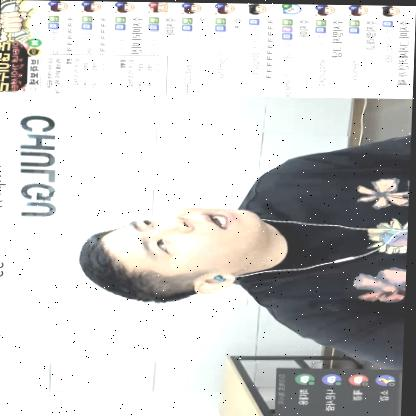streamer: (77, 128, 412, 369)
